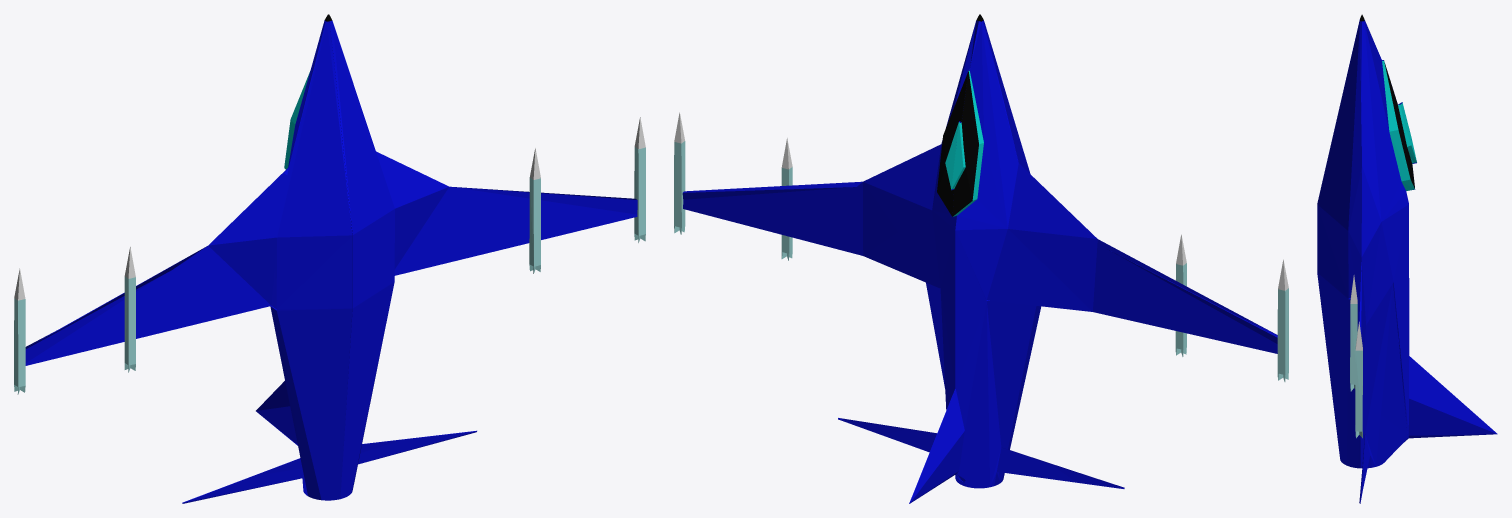
Rendered from BluePlane.fbx.
The picture shows the model from 3 angles, left to right: view 1: azimuth 30°, elevation 25°; view 2: azimuth 150°, elevation 25°; view 3: azimuth 270°, elevation 25°; orthographic projection. The views are drawn at different scales.
Parts seen in each view (by area): view 1: BluePlane; view 2: BluePlane; view 3: BluePlane.
Part boxes in pixels (left/top/right/bottom): BluePlane: left=14, top=14, right=645, bottom=503; BluePlane: left=674, top=14, right=1288, bottom=503; BluePlane: left=1317, top=14, right=1497, bottom=503.
Bounding box in the file's own units: 1479 × 1072 × 395.
